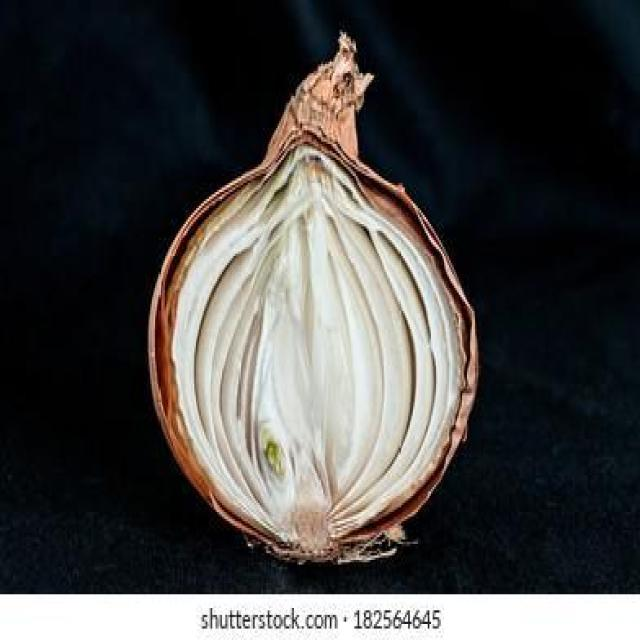Onion: (144, 34, 483, 572)
